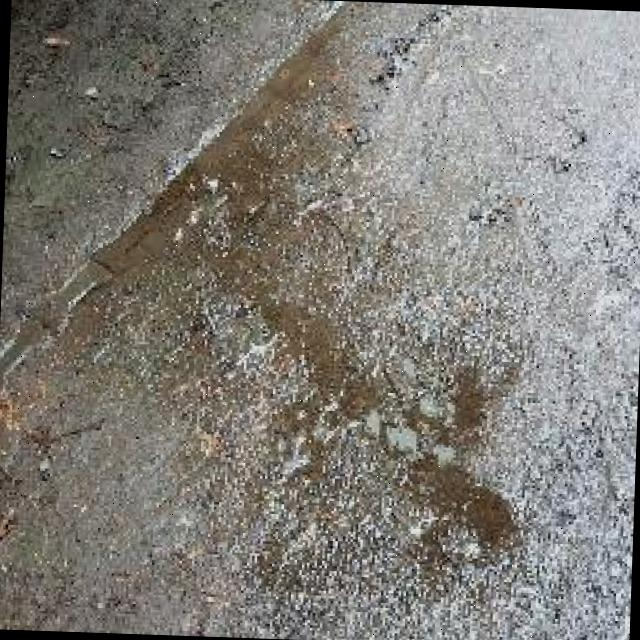waterlogging: (68, 11, 553, 594)
